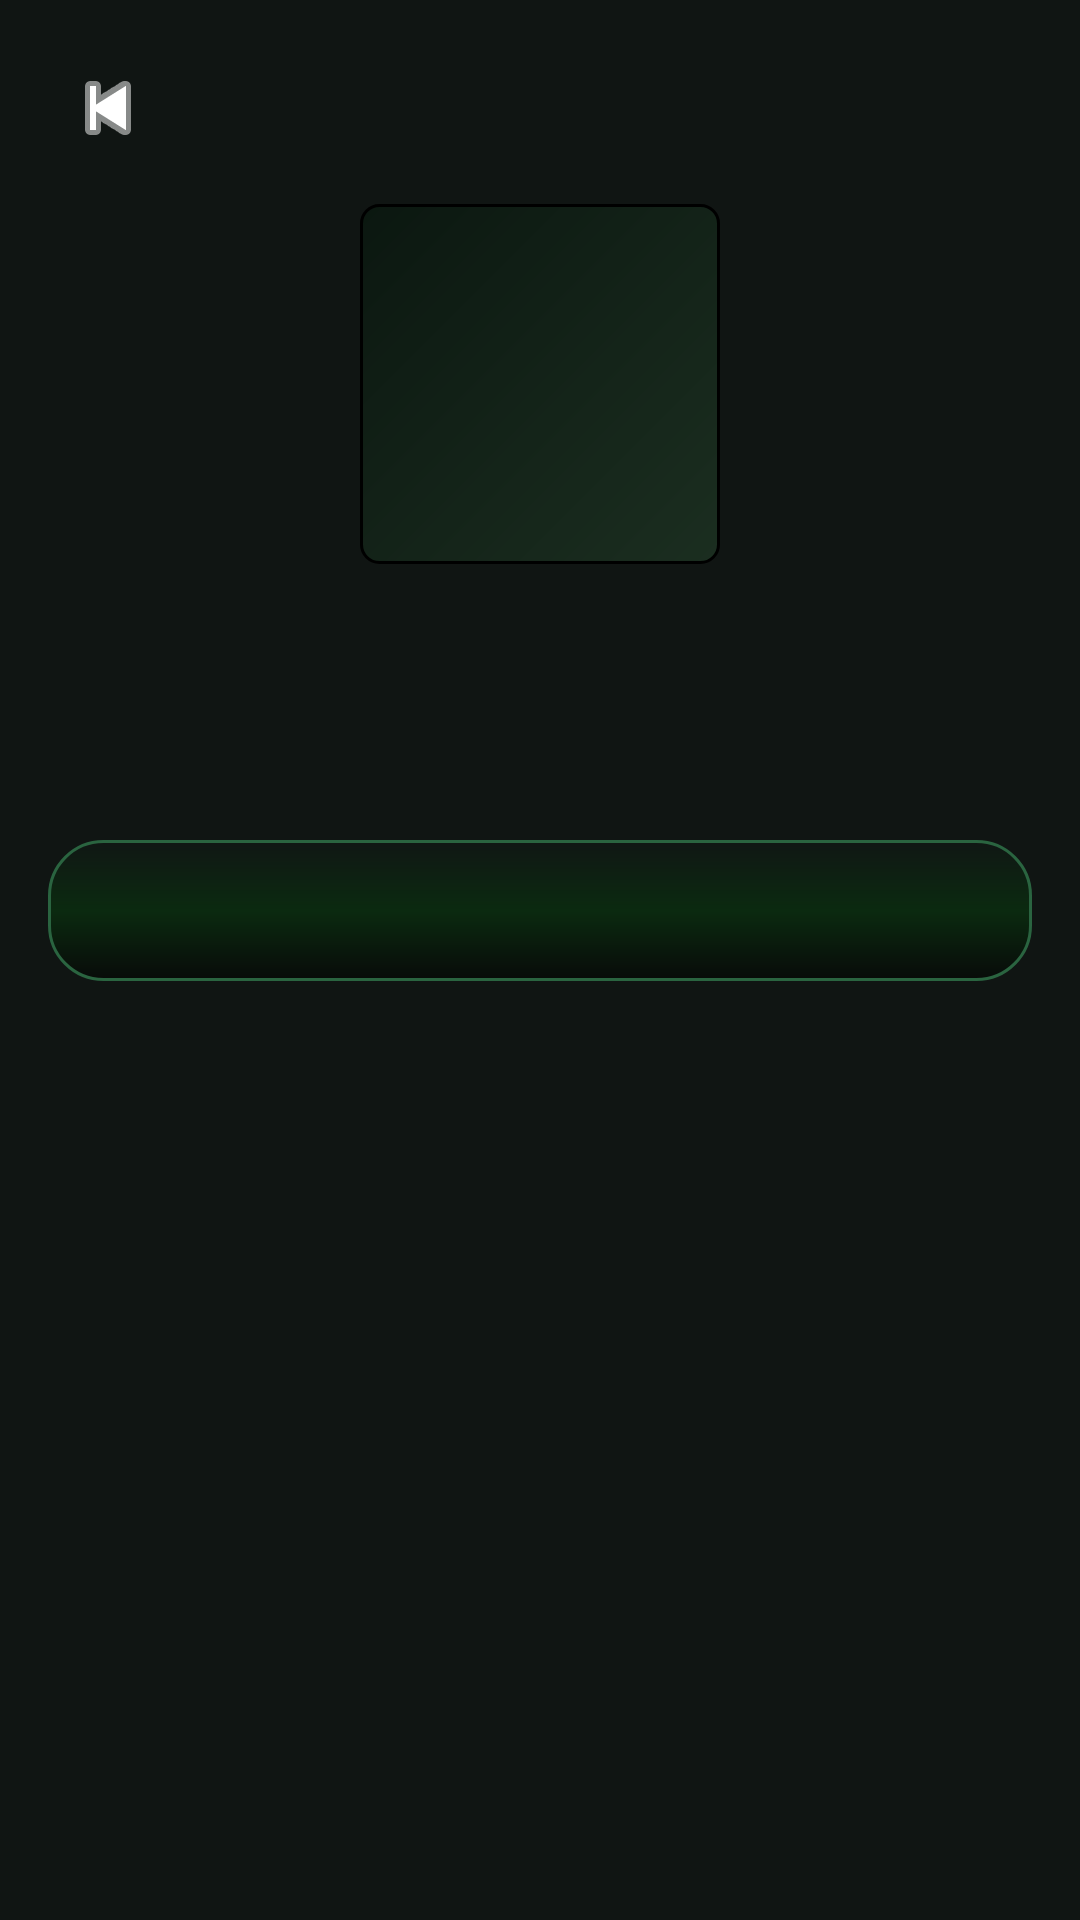

Screen size 1080 × 1920. Icon name, then its box in pixels as Rect(x1, y1, x2, y2):
previous: Rect(85, 81, 131, 135)
